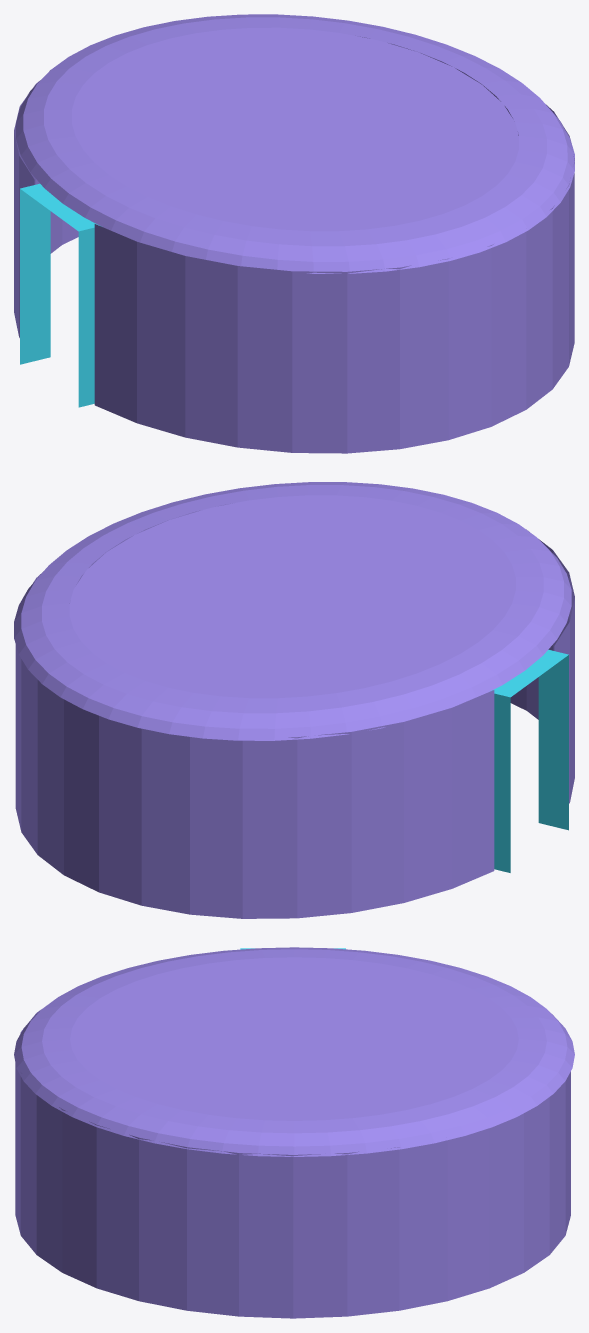
File: bunker.fbx
3 renders of one model, top to bottom at view 1: azimuth 30°, elevation 25°; view 2: azimuth 150°, elevation 25°; view 3: azimuth 270°, elevation 25°, orthographic. The views are drawn at different scales.
Visible parts, largest first — view 1: Cilindro.001, Cubo; view 2: Cilindro.001, Cubo; view 3: Cilindro.001.
Part boxes in pixels (<box>): Cilindro.001: <box>14,14,574,453</box>; Cubo: <box>20,183,101,407</box>; Cilindro.001: <box>14,482,574,918</box>; Cubo: <box>490,649,568,872</box>; Cilindro.001: <box>14,947,574,1318</box>.
Size of the model in its own units: 726 by 285 by 816.
